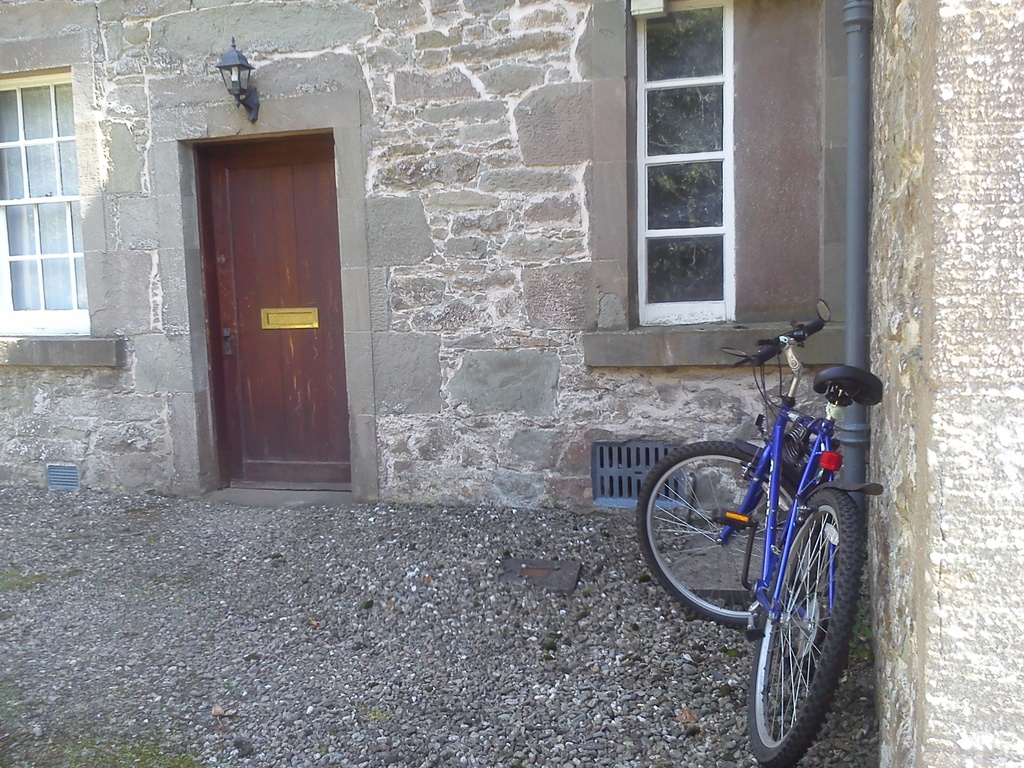Window: (586, 0, 847, 369), (0, 29, 123, 372)
